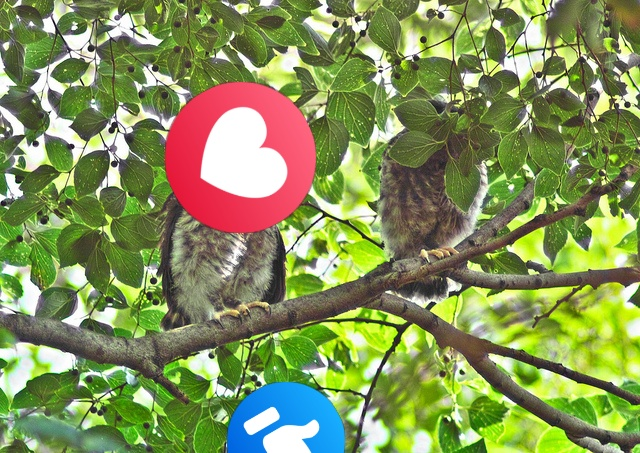like: (227, 382, 345, 453)
love: (165, 82, 316, 233)
